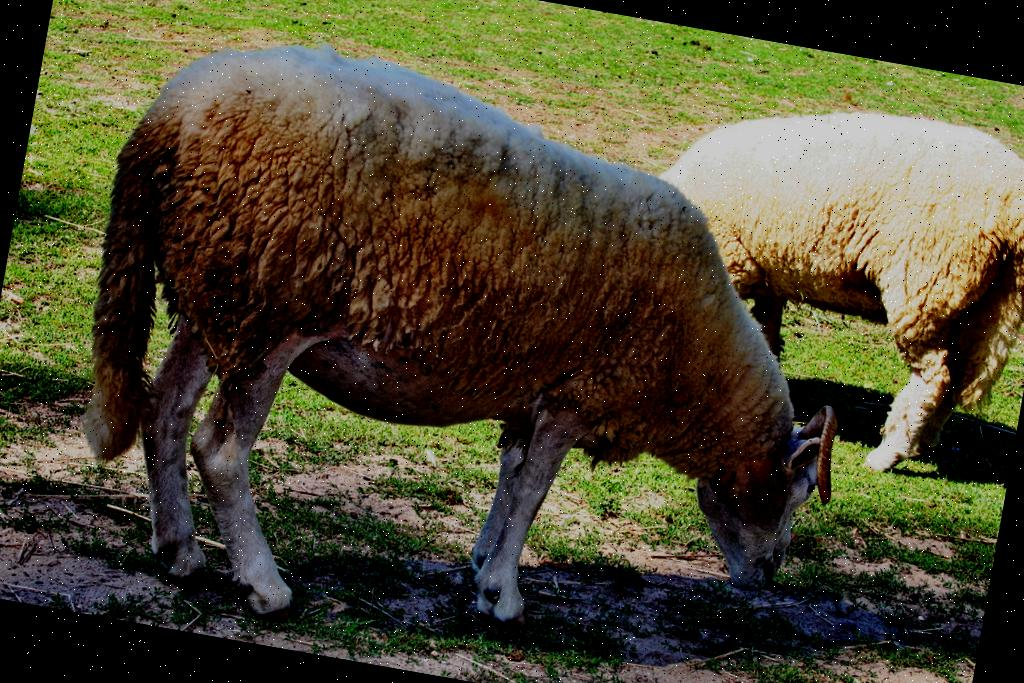Sheep: (40, 4, 894, 683), (613, 69, 1024, 489)
